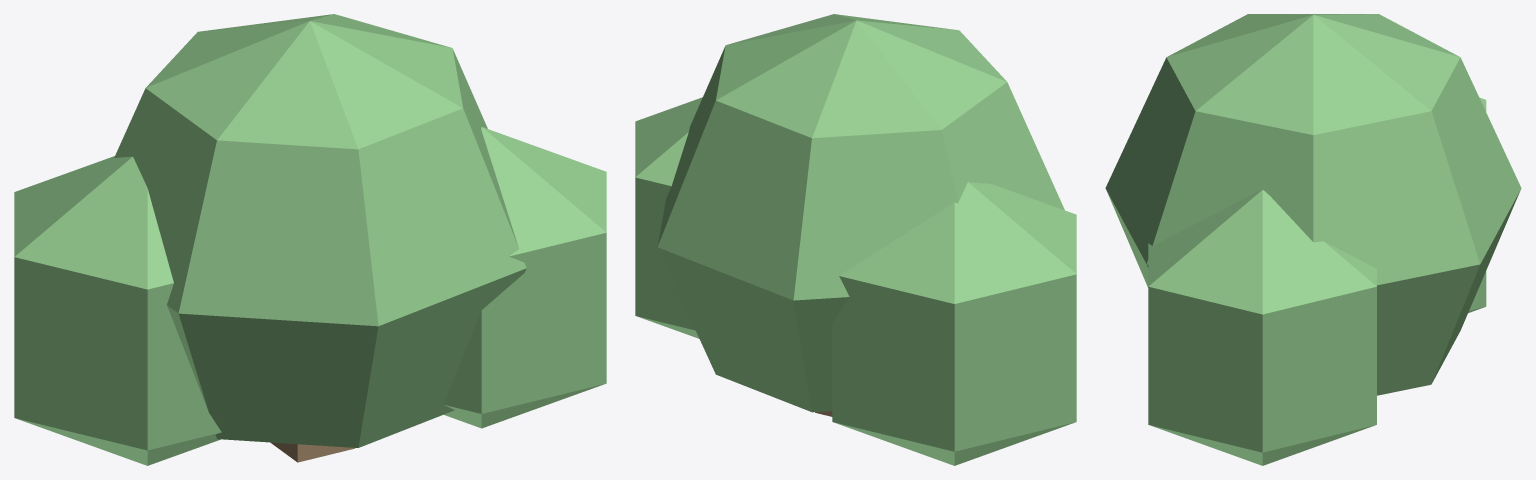
Rendered from bush_round.glb.
3 views of the same model, side by side, from view 1: azimuth 30°, elevation 25°; view 2: azimuth 150°, elevation 25°; view 3: azimuth 270°, elevation 25° (orthographic). The views are drawn at different scales.
Visible parts, largest first — view 1: leaves, stem; view 2: leaves; view 3: leaves.
Part boxes in pixels (x1,y1,x2,y2): leaves: [14, 14, 606, 465]; stem: [270, 442, 355, 462]; leaves: [635, 14, 1076, 465]; leaves: [1105, 14, 1521, 465].
Bounding box in the file's own units: 1.12 × 0.86 × 0.8189.
